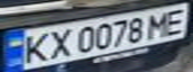0: (72, 24, 96, 54), (93, 20, 115, 51)
7: (109, 16, 133, 47)
8: (124, 14, 151, 43)
E: (160, 4, 193, 36)
K: (15, 30, 54, 65)
M: (142, 9, 175, 39)
X: (42, 26, 75, 61)
